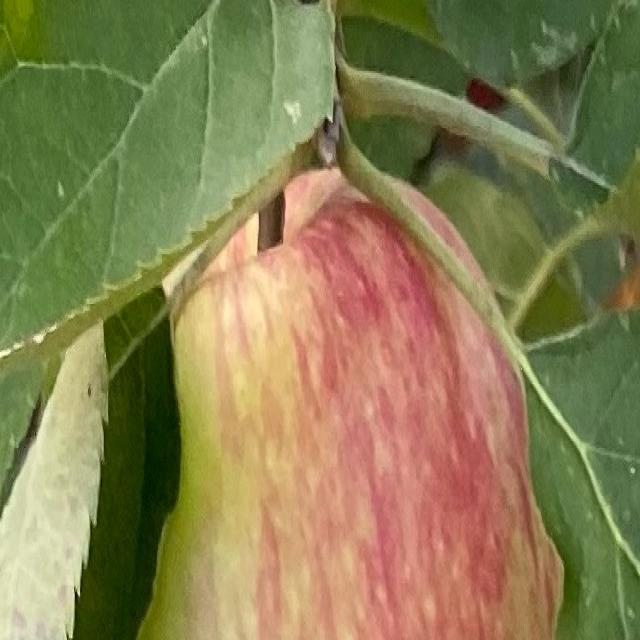Apples: (139, 167, 564, 638)
